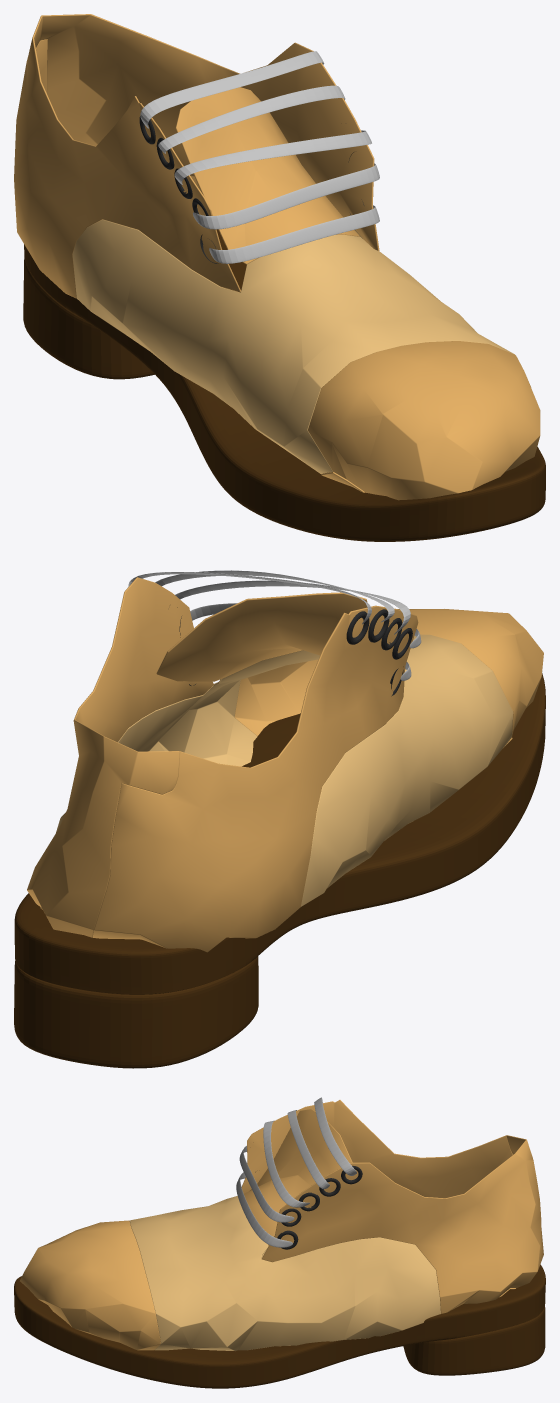
Rendered from za1ve1izquierda.fbx.
3 renders of one model, top to bottom at view 1: azimuth 30°, elevation 25°; view 2: azimuth 150°, elevation 25°; view 3: azimuth 270°, elevation 25°, orthographic. The views are drawn at different scales.
Visible parts, largest first — view 1: ZAPATO1_3, Plane, Plane.002, Plane.004, Plane.005, Plane.001, Plane.003; view 2: ZAPATO1_3, Plane, Plane.001, Plane.003, Plane.004; view 3: ZAPATO1_3, Plane, Plane.001, Plane.004, Plane.003, Plane.005, Plane.002.
Boxes of the visible parts, bbox=[...] form: ZAPATO1_3: bbox=[14, 14, 540, 500]; Plane: bbox=[23, 229, 545, 541]; Plane.002: bbox=[193, 163, 379, 229]; Plane.004: bbox=[140, 51, 324, 128]; Plane.005: bbox=[209, 205, 379, 263]; Plane.001: bbox=[174, 130, 371, 184]; Plane.003: bbox=[158, 85, 345, 153]; ZAPATO1_3: bbox=[27, 577, 543, 952]; Plane: bbox=[14, 673, 545, 1068]; Plane.001: bbox=[175, 580, 410, 634]; Plane.003: bbox=[155, 570, 394, 622]; Plane.004: bbox=[128, 572, 371, 624]; ZAPATO1_3: bbox=[20, 1100, 543, 1350]; Plane: bbox=[14, 1264, 545, 1388]; Plane.001: bbox=[263, 1120, 309, 1207]; Plane.004: bbox=[314, 1097, 356, 1175]; Plane.003: bbox=[287, 1110, 329, 1189]; Plane.005: bbox=[236, 1172, 292, 1247]; Plane.002: bbox=[239, 1145, 294, 1222].
Bounding box in the file's own units: 174 × 204 × 447.
